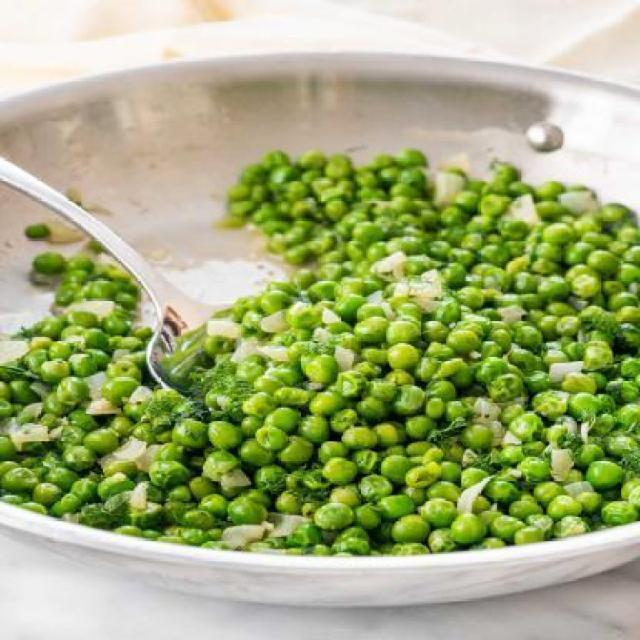Peas: (0, 147, 640, 558)
